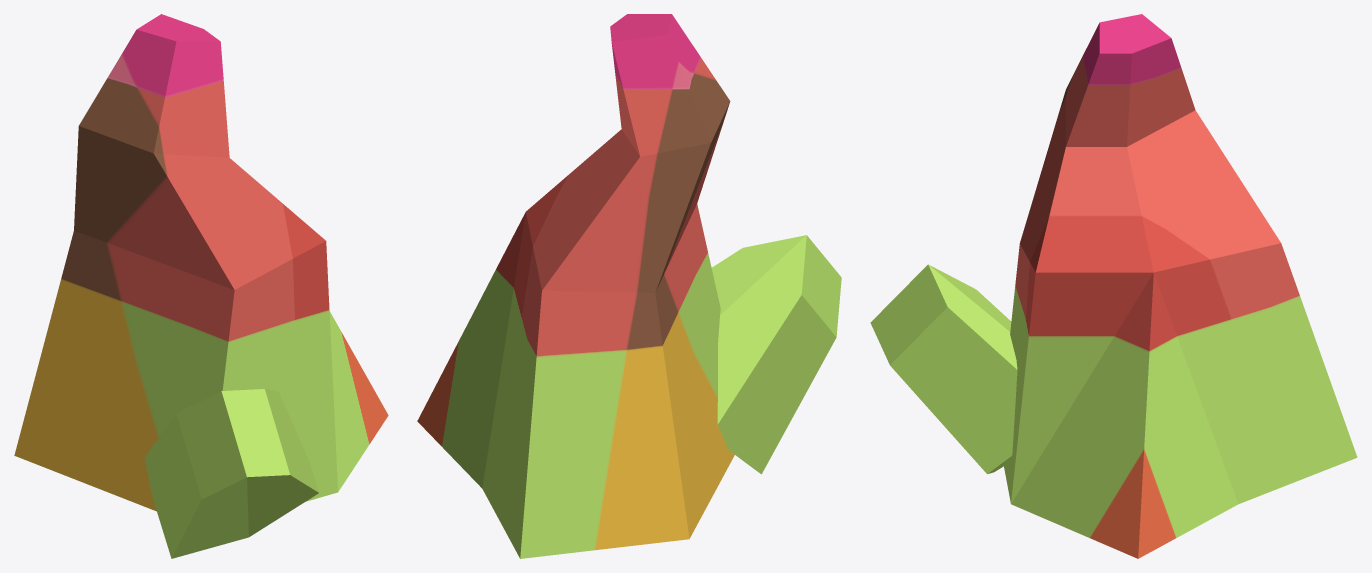
The model's file is rock_19.fbx.
3 views of the same model, side by side, from view 1: azimuth 30°, elevation 25°; view 2: azimuth 150°, elevation 25°; view 3: azimuth 270°, elevation 25° (orthographic). The views are drawn at different scales.
Parts seen in each view (by area): view 1: rock_19; view 2: rock_19; view 3: rock_19.
Part boxes in pixels (<box>): rock_19: <box>14,14,388,558</box>; rock_19: <box>417,14,841,558</box>; rock_19: <box>870,14,1357,558</box>.
Bounding box in the file's own units: 93.26 × 132 × 127.
